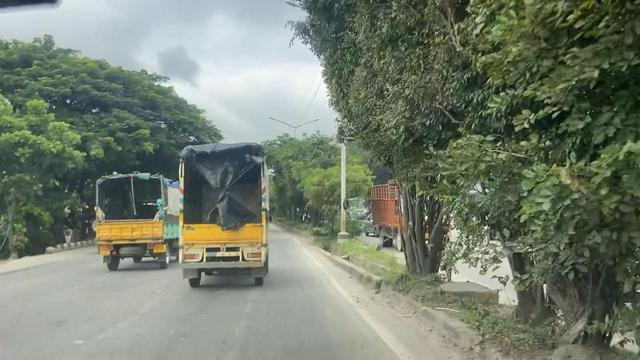HMV: (169, 127, 273, 295), (88, 164, 177, 275)
